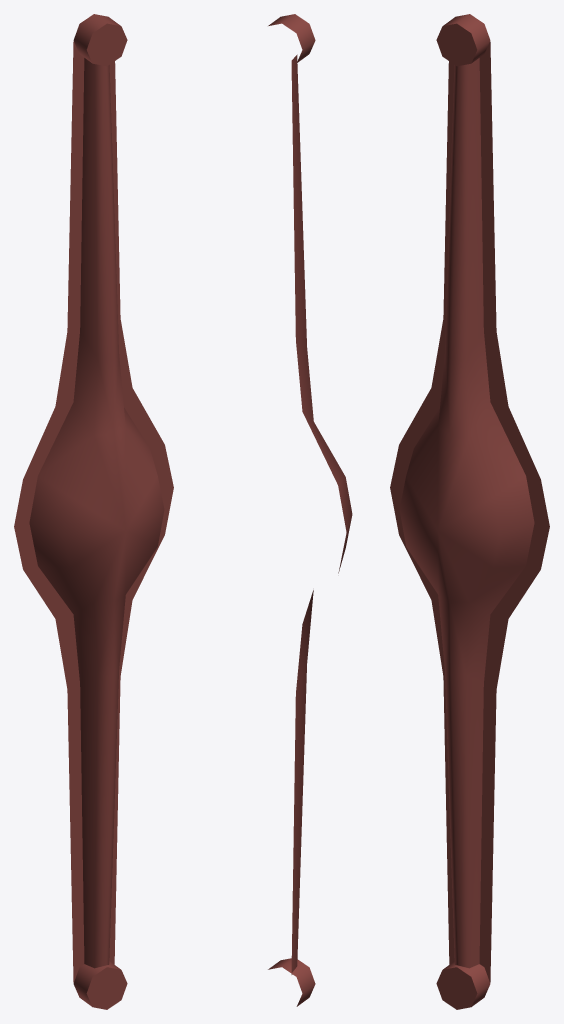
Rendered from celt_boss_04.glb.
3 renders of one model, left to right at view 1: azimuth 30°, elevation 25°; view 2: azimuth 150°, elevation 25°; view 3: azimuth 330°, elevation 25°, orthographic.
Parts seen in each view (by area): view 1: longboat_135-mesh; view 2: longboat_135-mesh; view 3: longboat_135-mesh.
Boxes of the visible parts, box(x1,y1,x2,y2) form: longboat_135-mesh: box(14, 14, 173, 1009); longboat_135-mesh: box(268, 14, 352, 1006); longboat_135-mesh: box(390, 14, 549, 1009).
Size of the model in its own units: 0.418 by 2.46 by 0.1455.
